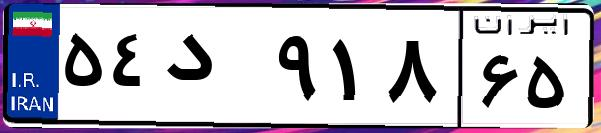1: (330, 28, 385, 110)
4: (110, 28, 158, 98)
5: (57, 26, 110, 100), (525, 38, 570, 115)
6: (475, 38, 525, 113)
8: (385, 28, 445, 110)
9: (270, 28, 330, 110)
د: (158, 20, 270, 120)
